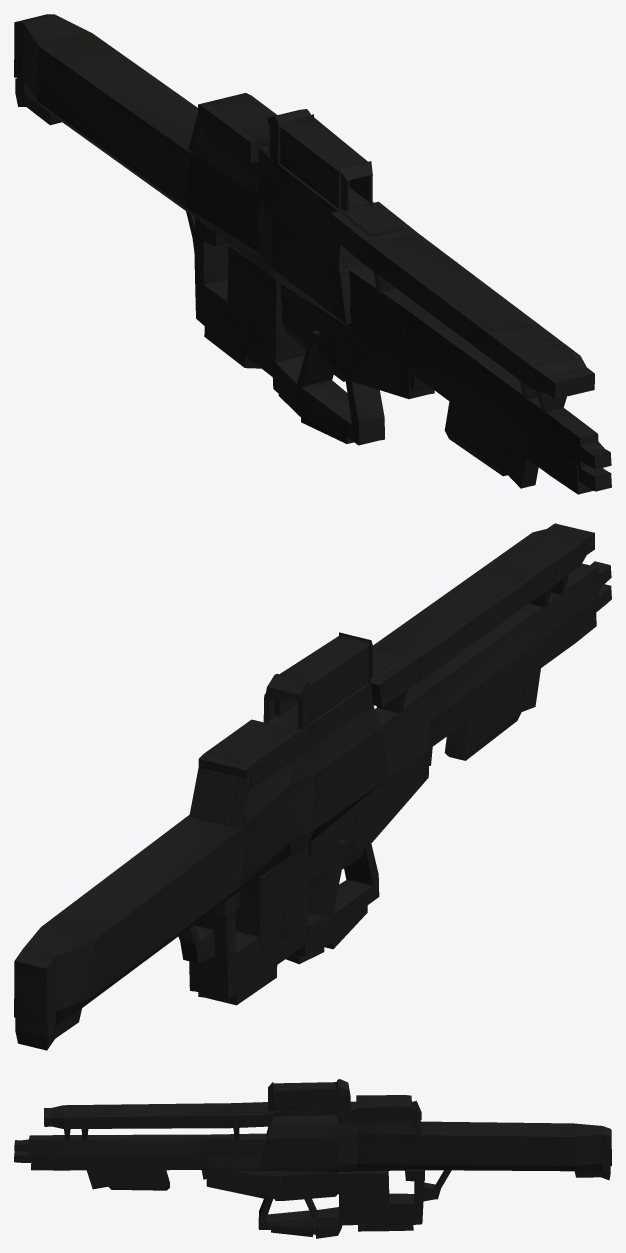
File: gun.fbx
3 renders of one model, top to bottom at view 1: azimuth 30°, elevation 25°; view 2: azimuth 150°, elevation 25°; view 3: azimuth 270°, elevation 25°, orthographic. The views are drawn at different scales.
Parts seen in each view (by area): view 1: Cube; view 2: Cube; view 3: Cube.
Boxes of the visible parts, x1=… form: Cube: x1=14, y1=14, x2=611, y2=494; Cube: x1=14, y1=523, x2=611, y2=1050; Cube: x1=14, y1=1079, x2=611, y2=1238.
Bounding box in the file's own units: 26.59 × 137 × 493.
1 material, 1 textured.
